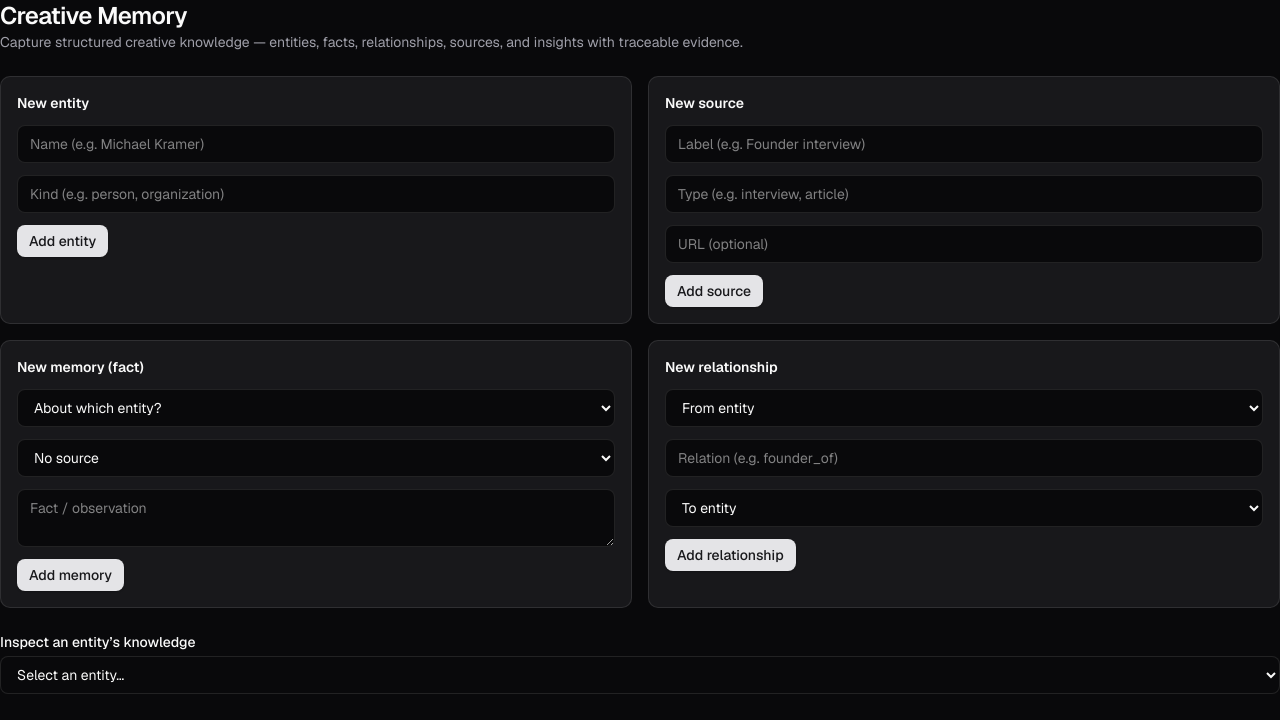
Test: KnowledgeWorkspace › loads and displays an entity's knowledge with traceable evidence
Select "Michael Kramer (person)" in the dropdown named "select entity" at x=640, y=675, box [0,656,1279,694]
(page scrolled)
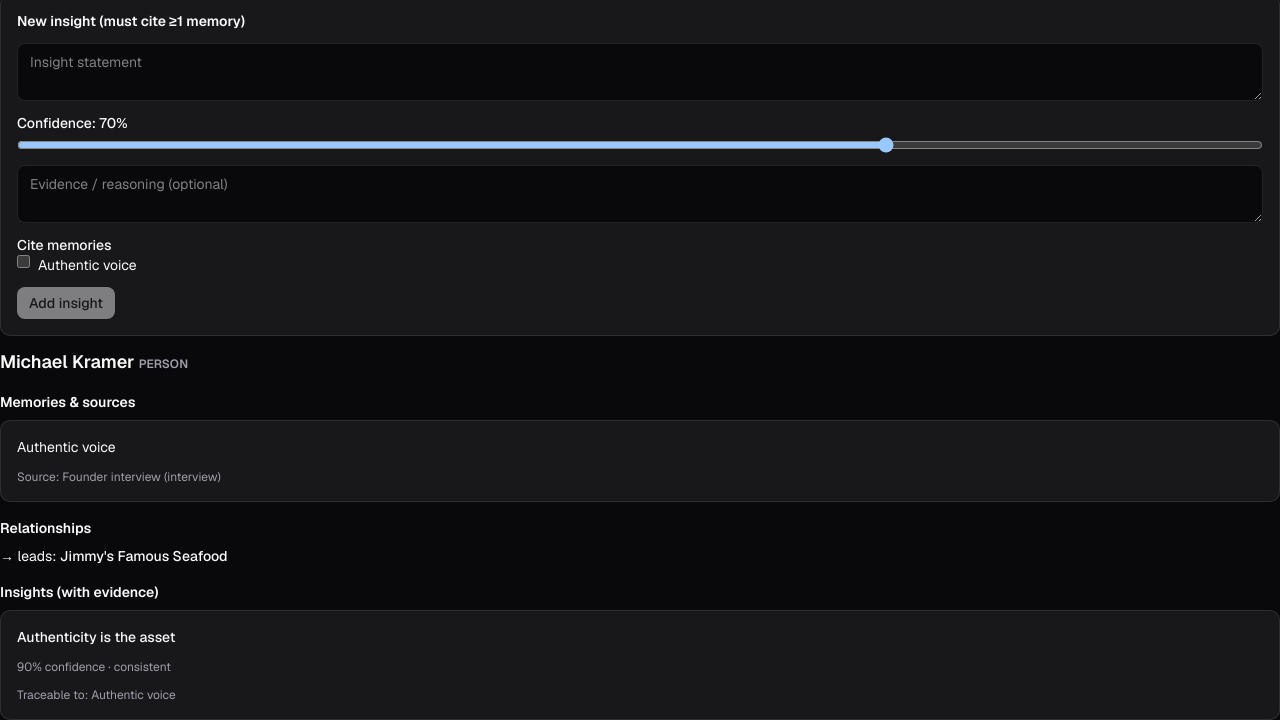
Expected: the text "Source: Founder interview (interview)" is shown, [17,469,221,485]
Expected: the text "Jimmy's Famous Seafood" is shown, [60,547,228,565]
Expected: the text "Authenticity is the asset" is shown, [17,628,176,646]
